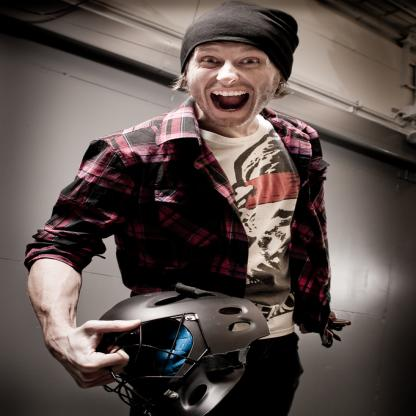Helmet: (87, 302, 271, 412)
